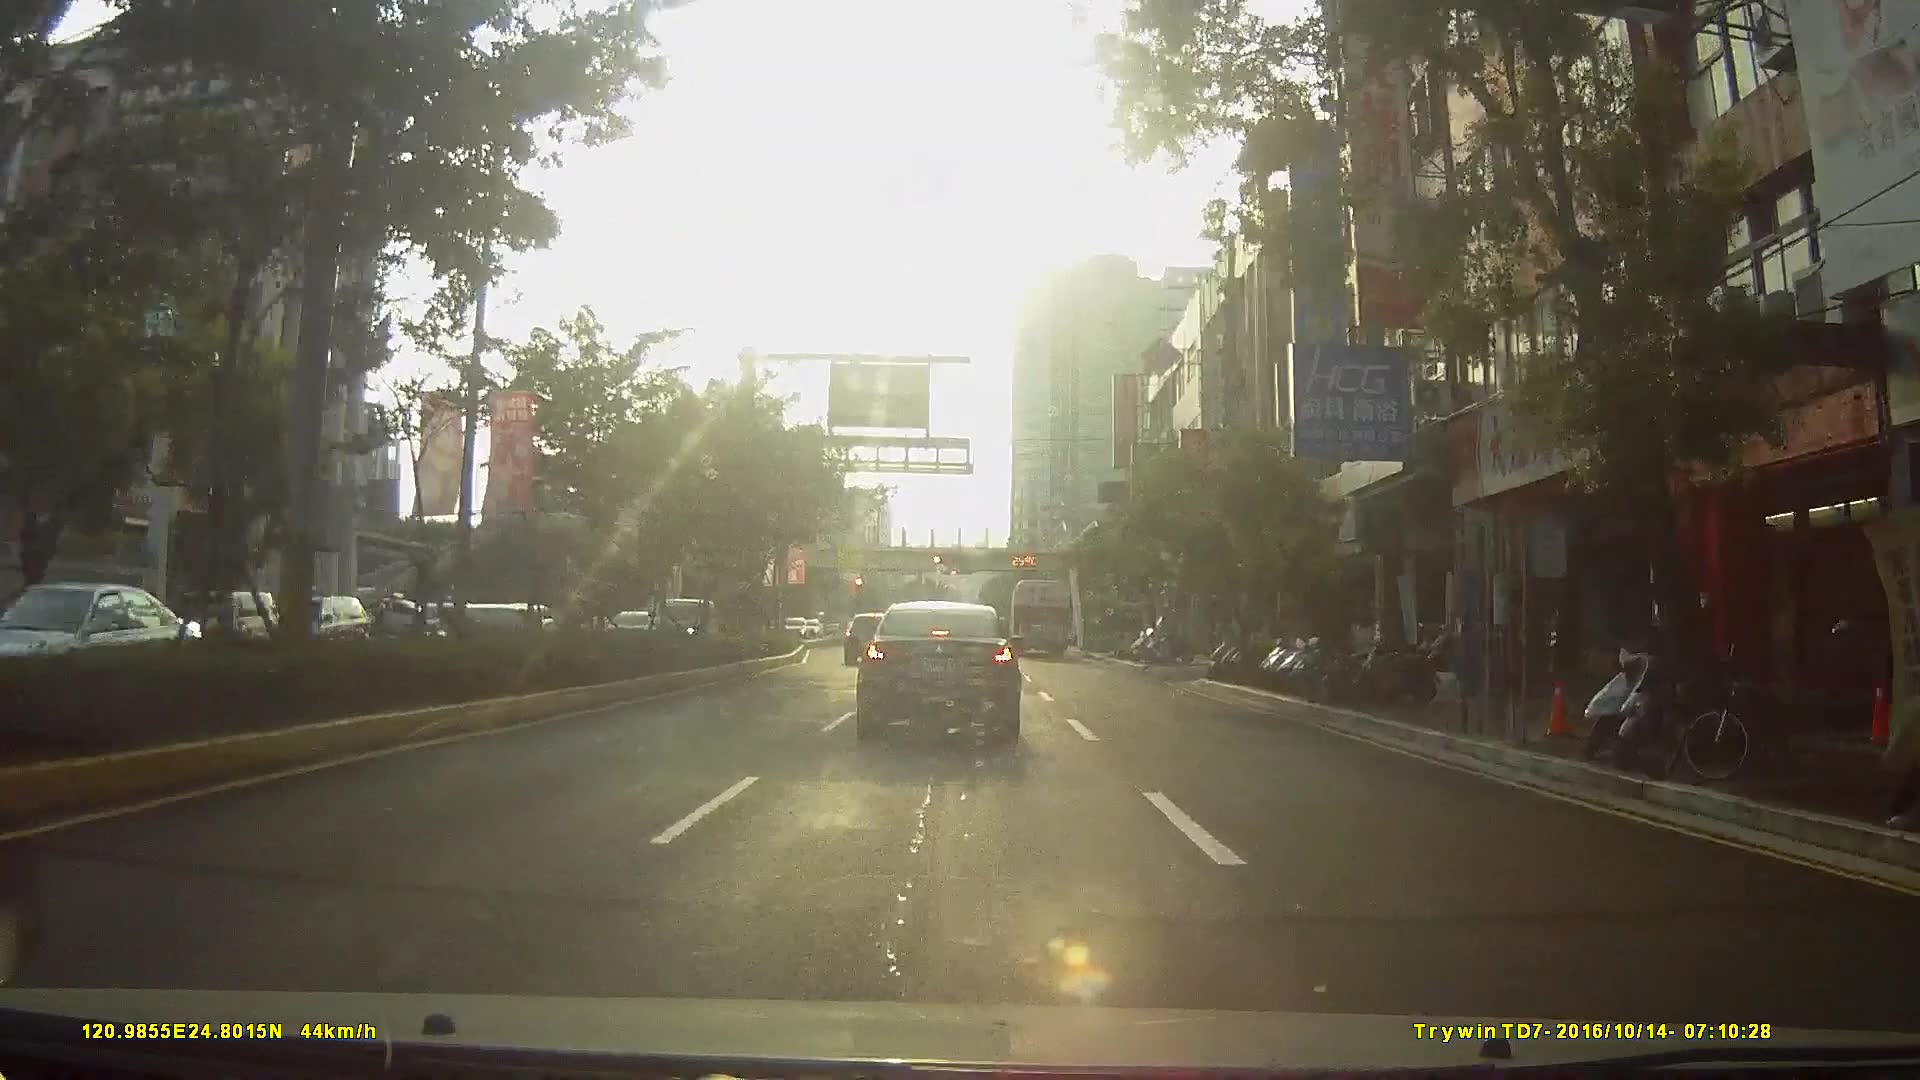vehicle: (1, 584, 232, 694), (855, 597, 1022, 744), (154, 585, 272, 657), (266, 591, 367, 654), (1006, 574, 1075, 654), (843, 611, 895, 663)
